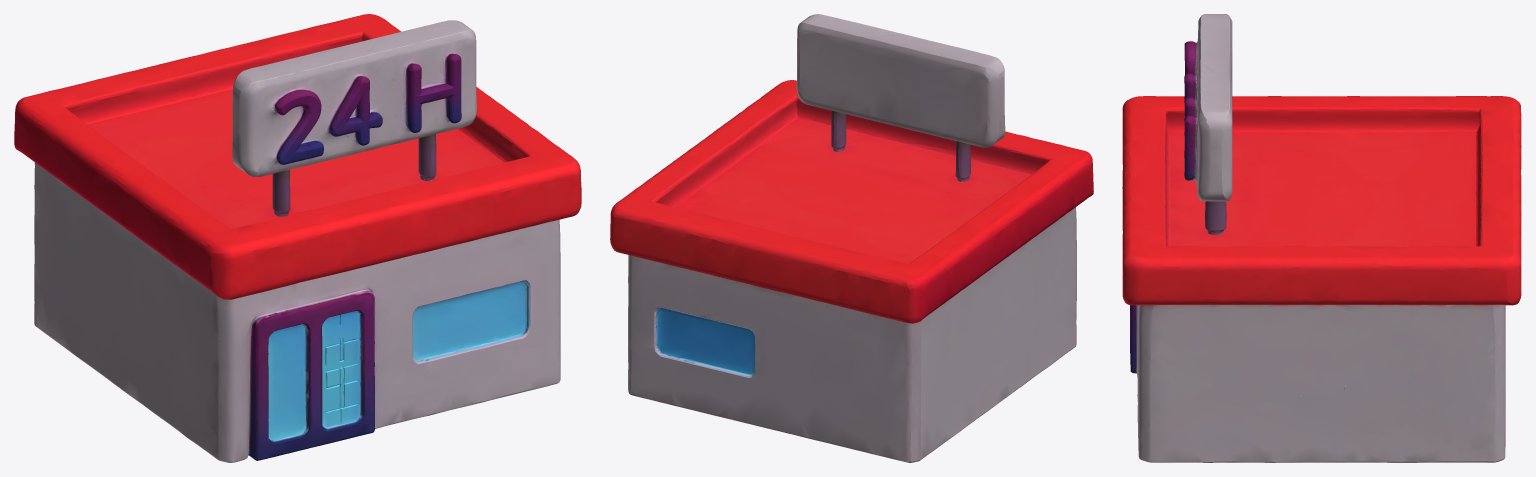
The model's file is convenience_store.glb.
3 views of the same model, side by side, from view 1: azimuth 30°, elevation 25°; view 2: azimuth 150°, elevation 25°; view 3: azimuth 270°, elevation 25° (orthographic). The views are drawn at different scales.
Visible parts, largest first — view 1: model; view 2: model; view 3: model.
Boxes of the visible parts, bbox=[...] form: model: bbox=[14, 14, 581, 462]; model: bbox=[610, 14, 1093, 462]; model: bbox=[1122, 14, 1521, 462].
Bounding box in the file's own units: 1 × 0.8904 × 0.9994.
Materials: 1 (1 with a texture image).
